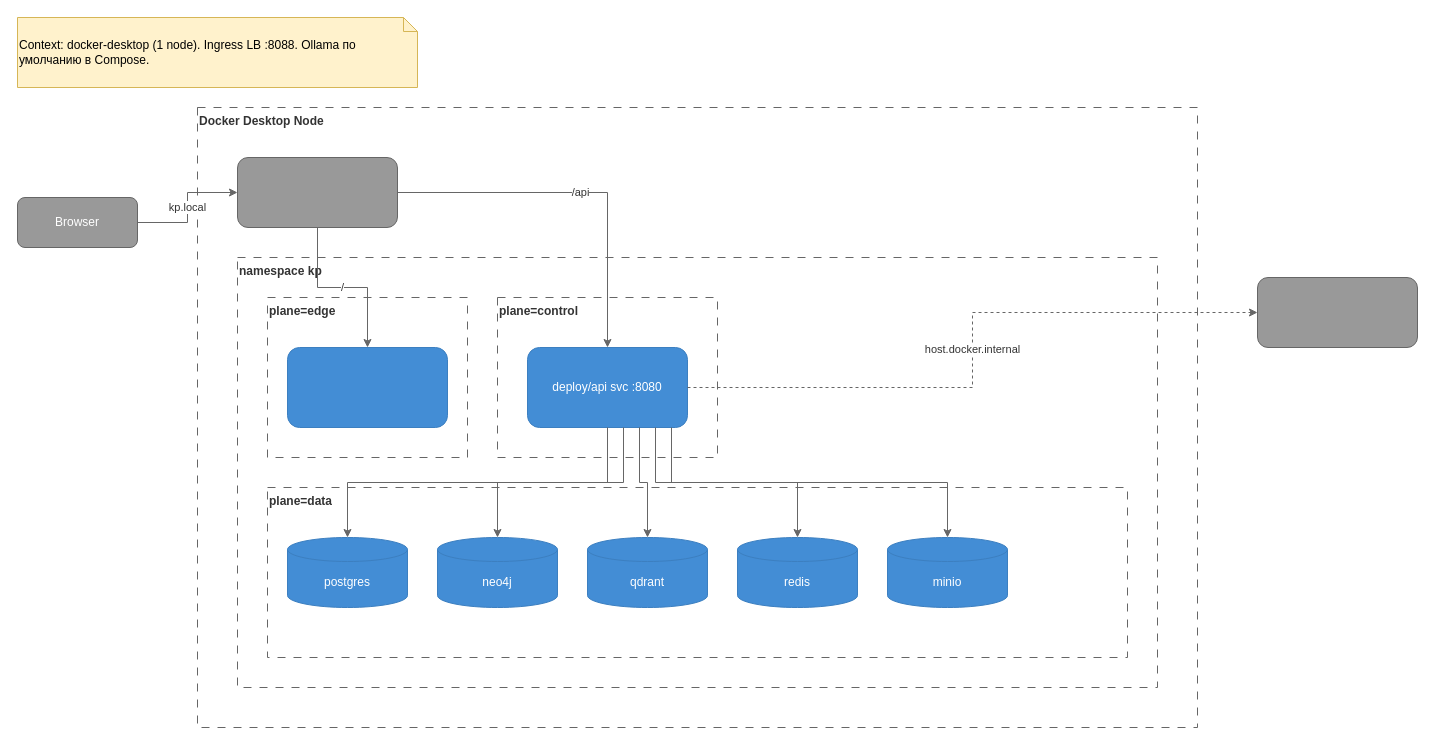
Image size: 1435x745. Some labels were removed from this diagram. The centre of each missing label's shape, as x and y in pixels:
Compose ollama :11434 host: pixel 1337 312
deploy/frontend svc :80: pixel 367 387
ingress-nginx LB :8088: pixel 317 192
